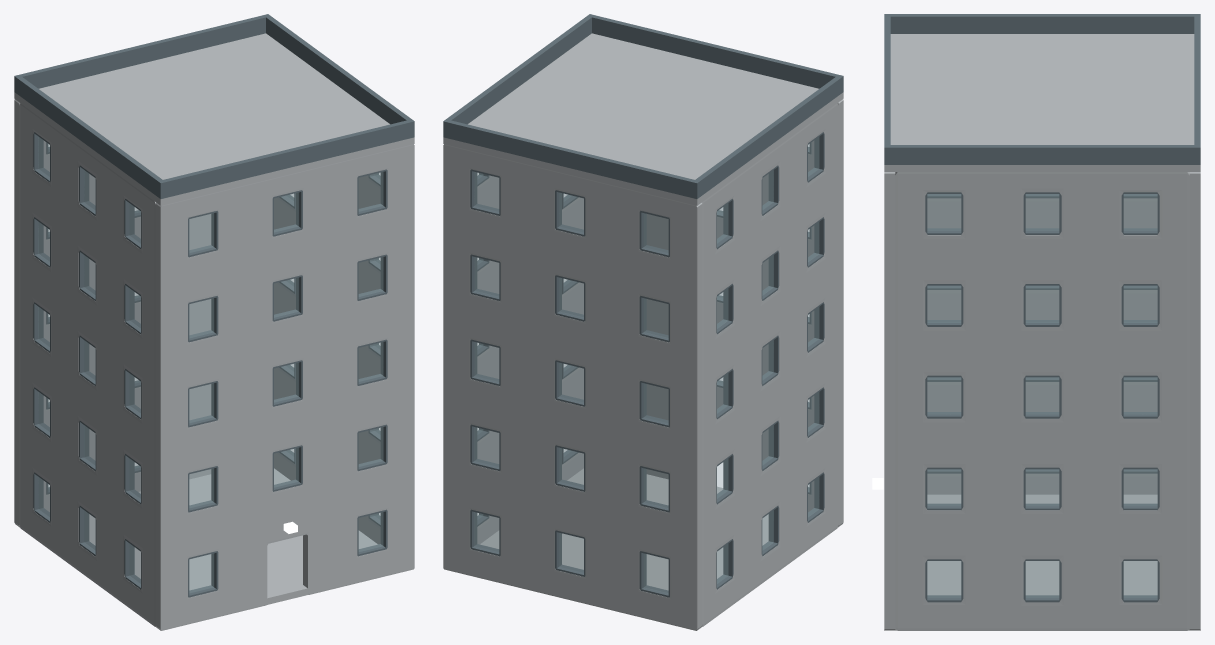
The model's file is block_5_lod0.glb.
The picture shows the model from 3 angles, left to right: view 1: azimuth 30°, elevation 25°; view 2: azimuth 150°, elevation 25°; view 3: azimuth 270°, elevation 25°; orthographic projection. The views are drawn at different scales.
Visible parts, largest first — view 1: Wall_0 baked, Wall_3 baked, Ceiling baked, Wall_1 baked, Parapet baked, Wall_2 baked, Parapet.002 baked, Floor baked, Parapet.001 baked, Parapet.003 baked, Glazing.001 baked, Glazing.012 baked (+12 smaller); view 2: Wall_1 baked, Wall_3 baked, Ceiling baked, Wall_0 baked, Parapet.002 baked, Wall_2 baked, Parapet baked, Parapet.001 baked, Parapet.003 baked, Floor baked, Glazing.019 baked, Glazing.014 baked (+13 smaller); view 3: Wall_2 baked, Ceiling baked, Wall_3 baked, Parapet.001 baked, Parapet.003 baked, Wall_0 baked, Wall_1 baked, Floor baked, Glazing.035 baked, Glazing.037 baked, Glazing.029 baked, Glazing.031 baked (+13 smaller).
Boxes of the visible parts, x1,y1,x2,y2 form: Wall_0 baked: (155, 144, 414, 630); Wall_3 baked: (19, 103, 155, 626); Ceiling baked: (14, 33, 414, 205); Wall_1 baked: (14, 99, 211, 526); Parapet baked: (158, 119, 414, 198); Wall_2 baked: (274, 175, 380, 544); Parapet.002 baked: (14, 14, 270, 93); Floor baked: (15, 468, 377, 630); Parapet.001 baked: (17, 77, 162, 196); Parapet.003 baked: (266, 16, 411, 124); Glazing.001 baked: (359, 512, 383, 551); Glazing.012 baked: (274, 193, 298, 231); Wall_1 baked: (443, 144, 702, 630); Wall_3 baked: (702, 103, 838, 626); Ceiling baked: (443, 33, 843, 205); Wall_0 baked: (646, 99, 843, 526); Parapet.002 baked: (443, 119, 699, 198); Wall_2 baked: (477, 175, 583, 544); Parapet baked: (587, 14, 843, 93); Parapet.001 baked: (695, 77, 840, 196); Parapet.003 baked: (446, 16, 591, 124); Floor baked: (480, 468, 842, 630); Glazing.019 baked: (644, 468, 668, 507); Glazing.014 baked: (474, 512, 498, 551); Wall_2 baked: (895, 172, 1189, 630); Ceiling baked: (884, 34, 1200, 171); Wall_3 baked: (927, 198, 1157, 494); Parapet.001 baked: (890, 14, 1194, 33); Parapet.003 baked: (890, 145, 1194, 164); Wall_0 baked: (884, 172, 895, 630); Wall_1 baked: (1189, 172, 1200, 630); Floor baked: (885, 494, 1199, 630); Glazing.035 baked: (927, 377, 960, 414); Glazing.037 baked: (1124, 377, 1157, 414); Glazing.029 baked: (927, 561, 960, 597); Glazing.031 baked: (1124, 561, 1157, 597).
Bounding box in the file's own units: 10 × 16.85 × 10.38.
